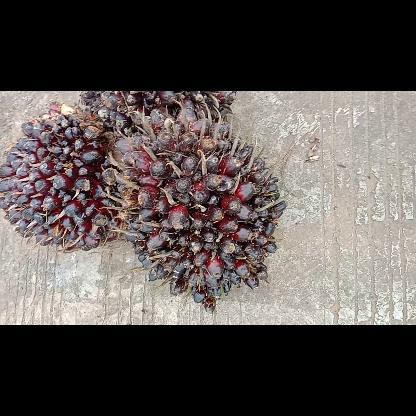TBS mentah: (108, 110, 288, 314), (0, 101, 128, 253)
